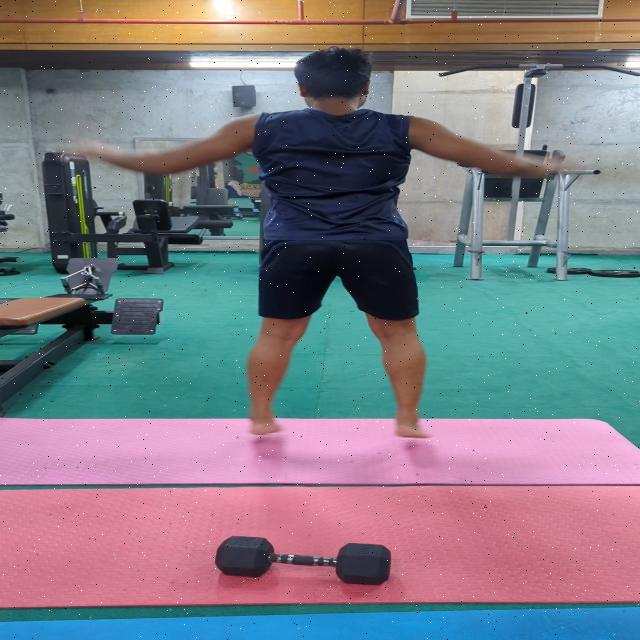Normal_JumpingJacks: (42, 24, 594, 463)
